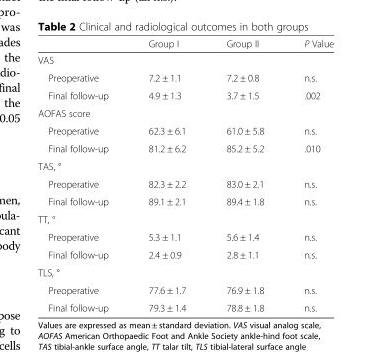table: (37, 37, 333, 313)
table column: (37, 37, 127, 313), (127, 37, 205, 313), (205, 37, 283, 313), (283, 37, 333, 313)
table column header: (37, 37, 333, 51)
table projected row header: (37, 103, 333, 121), (37, 51, 333, 68), (37, 157, 333, 174), (37, 210, 333, 227), (37, 263, 333, 280)
table row: (37, 68, 333, 86), (37, 103, 333, 121), (37, 121, 333, 139), (37, 139, 333, 157), (37, 174, 333, 192), (37, 192, 333, 210), (37, 227, 333, 245), (37, 245, 333, 263), (37, 280, 333, 298), (37, 51, 333, 68), (37, 86, 333, 103), (37, 157, 333, 174), (37, 210, 333, 227), (37, 263, 333, 280), (37, 298, 333, 313), (37, 37, 333, 51)
